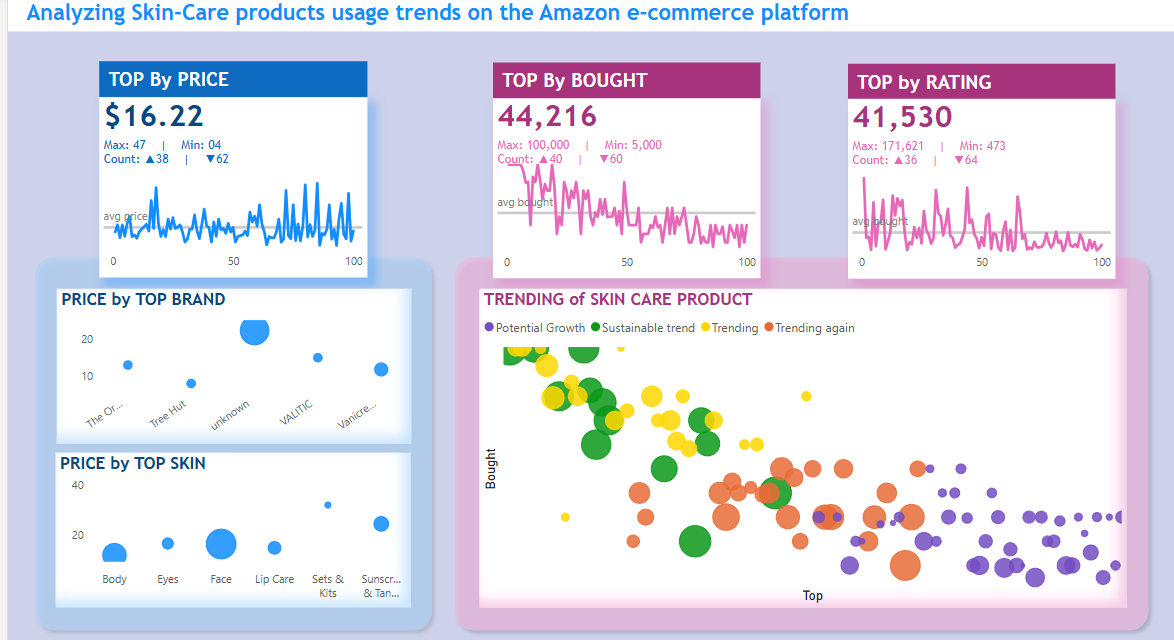

The page's visual inventory and layout, read from the dashboard file:
{"tool":"powerbi","page":{"name":"Page 1","canvas":[1280,720],"ordinal":0},"visuals":[{"type":"lineChart","fields":{"Category":["public amazon_products.top"],"Y":["Sum(public amazon_products.bought_info)"]},"box":[532.6,113.2,293.7,198.2],"z":0,"group":"g1"},{"type":"lineChart","fields":{"Category":["public amazon_products.top"],"Y":["Sum(public amazon_products.rating_count)"]},"box":[922.1,114.2,293.7,197.2],"z":0,"group":"g2"},{"type":"shape","box":[20.9,279.1,453.5,427.9],"z":0},{"type":"textbox","box":[532.6,74.4,293.7,38.8],"z":1000,"group":"g1"},{"type":"textbox","box":[922.1,75.6,293.7,38.6],"z":1000,"group":"g2"},{"type":"lineChart","fields":{"Category":["public amazon_products.top"],"Y":["Sum(public amazon_products.price)"]},"box":[100,112.8,294.2,197.7],"z":1000},{"type":"shape","box":[481.4,279.1,779.1,427.9],"z":2000},{"type":"textbox","box":[100,73.3,294.2,39.5],"z":3000},{"type":"group","id":"g1","title":"Group 2","box":[532.6,74.4,293,236],"z":4000},{"type":"group","id":"g2","title":"Group 3","box":[922.1,75.6,293,234.9],"z":5000},{"type":"scatterChart","title":"TRENDING of SKIN CARE PRODUCT","fields":{"X":["public amazon_products.top"],"Y":["Sum(public amazon_products.bought_info)"],"Size":["Sum(public amazon_products.rating_count)"],"Series":["public amazon_products.cluster_label"]},"box":[517.4,322.1,710.5,350],"z":6000},{"type":"scatterChart","title":"PRICE by TOP BRAND","fields":{"X":["public amazon_products.brand"],"Y":["public amazon_products._priceAvg"],"Size":["CountNonNull(public amazon_products.id)"]},"box":[53.5,322.5,389.7,170.2],"z":7000},{"type":"scatterChart","title":"PRICE by TOP SKIN","fields":{"Y":["public amazon_products._priceAvg"],"Size":["CountNonNull(public amazon_products.id)"],"X":["public amazon_products.skin_type"]},"box":[52.1,502.2,389.7,170.2],"z":8000},{"type":"textbox","box":[0,0,1280.3,39.8],"z":8001}]}

Visuals, with their boxes on the page's 1280x720 design canvas (x1, y1, x2, y2). These are canvas units, not pixel positions in the 1174x640 screenshot, which may show the page scaled, cropped or inside an application window:
lineChart - public amazon_products.top x Sum(public amazon_products.bought_info): l=533, t=113, r=826, b=311
lineChart - public amazon_products.top x Sum(public amazon_products.rating_count): l=922, t=114, r=1216, b=311
shape: l=21, t=279, r=474, b=707
textbox: l=533, t=74, r=826, b=113
textbox: l=922, t=76, r=1216, b=114
lineChart - public amazon_products.top x Sum(public amazon_products.price): l=100, t=113, r=394, b=310
shape: l=481, t=279, r=1260, b=707
textbox: l=100, t=73, r=394, b=113
"Group 2" group: l=533, t=74, r=826, b=310
"Group 3" group: l=922, t=76, r=1215, b=310
"TRENDING of SKIN CARE PRODUCT" scatterChart: l=517, t=322, r=1228, b=672
"PRICE by TOP BRAND" scatterChart: l=54, t=322, r=443, b=493
"PRICE by TOP SKIN" scatterChart: l=52, t=502, r=442, b=672
textbox: l=0, t=0, r=1280, b=40
